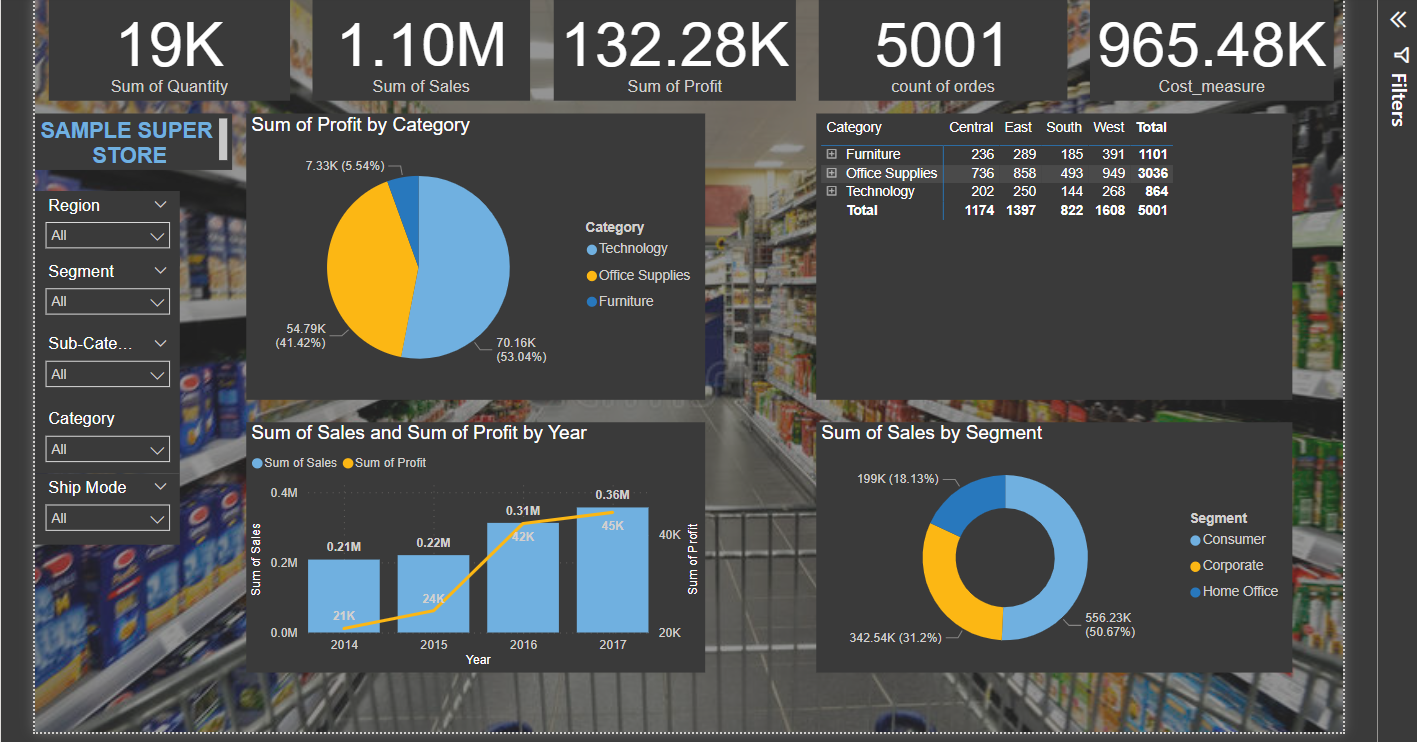

The page's visual inventory and layout, read from the dashboard file:
{"tool":"powerbi","page":{"name":"Page 2","canvas":[1280,720],"ordinal":1},"visuals":[{"type":"card","fields":{"Values":["Sum(Sample - Superstore.Sales)"]},"box":[271.7,0,212.7,102.7],"z":0},{"type":"card","fields":{"Values":["Sum(Sample - Superstore.Profit)"]},"box":[506.7,0,237.1,102.7],"z":1000},{"type":"card","fields":{"Values":["Sum(Sample - Superstore.Quantity)"]},"box":[13.4,0,235.9,102.7],"z":2000},{"type":"slicer","fields":{"Values":["Sample - Superstore.Region"]},"box":[0,190.7,141.8,73.3],"z":3000},{"type":"slicer","fields":{"Values":["Sample - Superstore.Segment"]},"box":[0,255.5,141.8,70.9],"z":4000},{"type":"slicer","fields":{"Values":["Sample - Superstore.Sub-Category"]},"box":[0,326.4,141.8,73.3],"z":5000},{"type":"slicer","fields":{"Values":["Category.Category"]},"box":[0,399.7,141.8,67.2],"z":6000},{"type":"pieChart","fields":{"Category":["Category.Category"],"Y":["Sum(Sample - Superstore.Profit)"]},"box":[206.6,114.9,448.6,279.9],"z":7000},{"type":"slicer","fields":{"Values":["Shipment.Ship Mode"]},"box":[0,467,141.8,69.7],"z":8000},{"type":"pivotTable","fields":{"Values":["CountNonNull(Sample - Superstore.Profit)"],"Rows":["Category.Category","Category.Sub-Category"],"Columns":["Sample - Superstore.Region"]},"box":[764,114.9,465.7,279.9],"z":9000},{"type":"lineClusteredColumnComboChart","fields":{"Y":["Sum(Sample - Superstore.Sales)"],"Y2":["Sum(Sample - Superstore.Profit)"],"Category":["Sample - Superstore.Order Date.Variation.Date Hierarchy.Year","Sample - Superstore.Order Date.Variation.Date Hierarchy.Quarter","Sample - Superstore.Order Date.Variation.Date Hierarchy.Month","Sample - Superstore.Order Date.Variation.Date Hierarchy.Day"]},"box":[206.6,416.8,448.6,244.5],"z":10000},{"type":"card","fields":{"Values":["Category.count of ordes"]},"box":[766.1,0,243.3,102.7],"z":11000},{"type":"card","fields":{"Values":["Category.Cost_measure"]},"box":[1031.7,0,238.4,102.7],"z":12000},{"type":"donutChart","fields":{"Y":["Sum(Sample - Superstore.Sales)"],"Category":["Sample - Superstore.Segment"]},"box":[764,416.8,465.7,244.5],"z":13000},{"type":"textbox","box":[0,114.9,193.1,55],"z":14000}]}

Visuals, with their boxes on the page's 1280x720 design canvas (x1, y1, x2, y2). These are canvas units, not pixel positions in the 1417x742 screenshot, which may show the page scaled, cropped or inside an application window:
card - Sum(Sample - Superstore.Sales): detection(272, 0, 484, 103)
card - Sum(Sample - Superstore.Profit): detection(507, 0, 744, 103)
card - Sum(Sample - Superstore.Quantity): detection(13, 0, 249, 103)
slicer - Sample - Superstore.Region: detection(0, 191, 142, 264)
slicer - Sample - Superstore.Segment: detection(0, 256, 142, 326)
slicer - Sample - Superstore.Sub-Category: detection(0, 326, 142, 400)
slicer - Category.Category: detection(0, 400, 142, 467)
pieChart - Category.Category x Sum(Sample - Superstore.Profit): detection(207, 115, 655, 395)
slicer - Shipment.Ship Mode: detection(0, 467, 142, 537)
pivotTable - CountNonNull(Sample - Superstore.Profit) x Category.Category: detection(764, 115, 1230, 395)
lineClusteredColumnComboChart - Sum(Sample - Superstore.Sales) x Sum(Sample - Superstore.Profit): detection(207, 417, 655, 661)
card - Category.count of ordes: detection(766, 0, 1009, 103)
card - Category.Cost_measure: detection(1032, 0, 1270, 103)
donutChart - Sum(Sample - Superstore.Sales) x Sample - Superstore.Segment: detection(764, 417, 1230, 661)
textbox: detection(0, 115, 193, 170)
